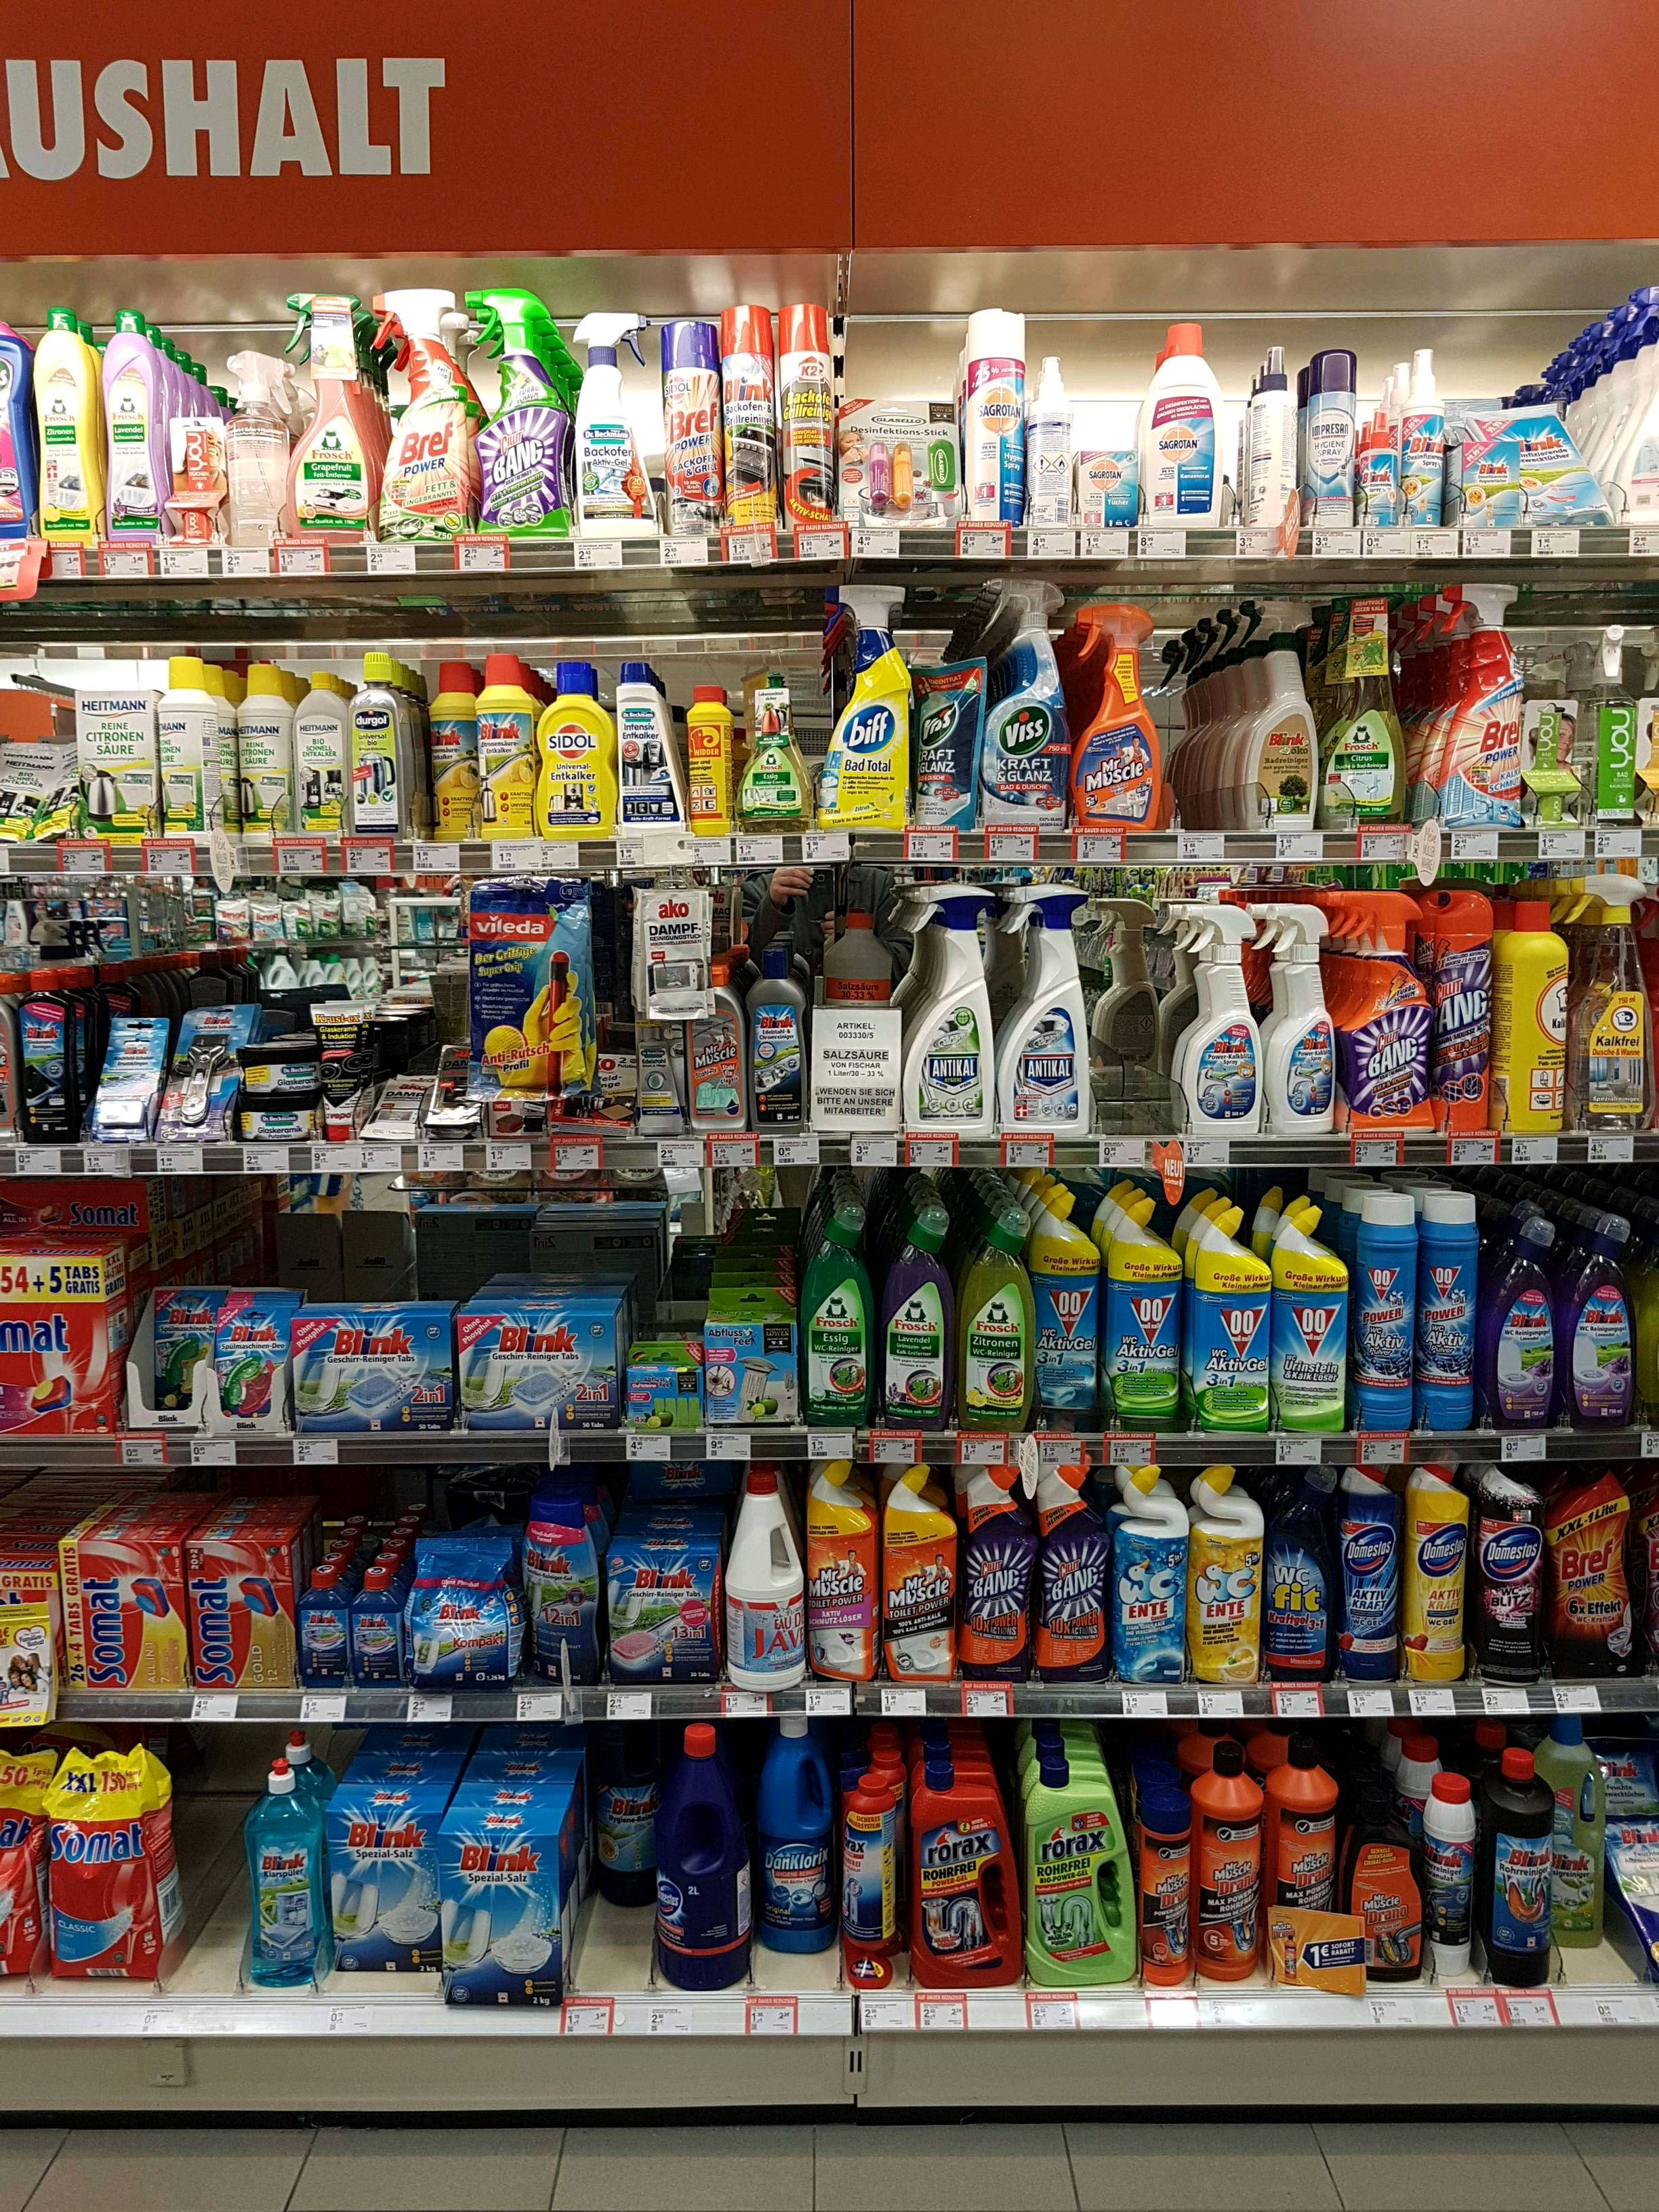Misplacement: (755, 1717, 838, 1989)
